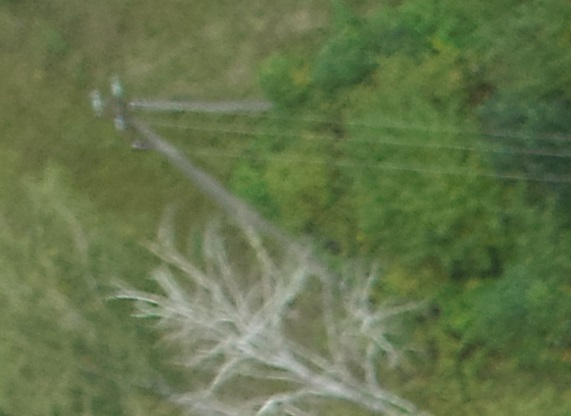opora: (87, 74, 378, 303)
